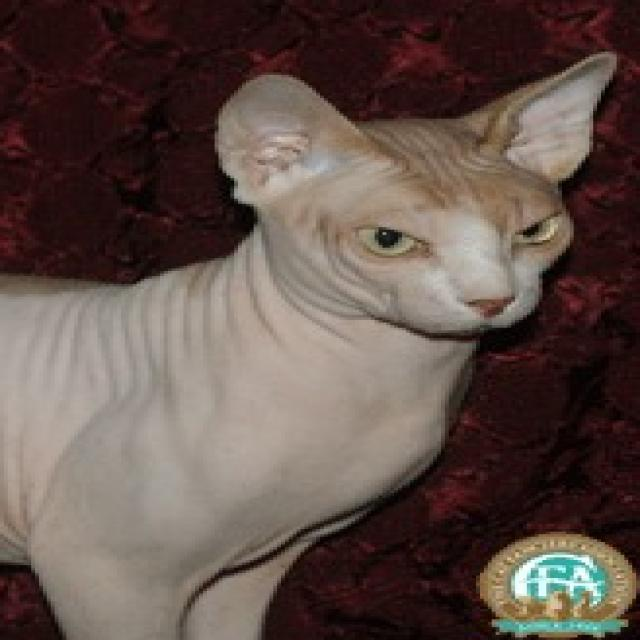Sphynx: (0, 44, 628, 640)
